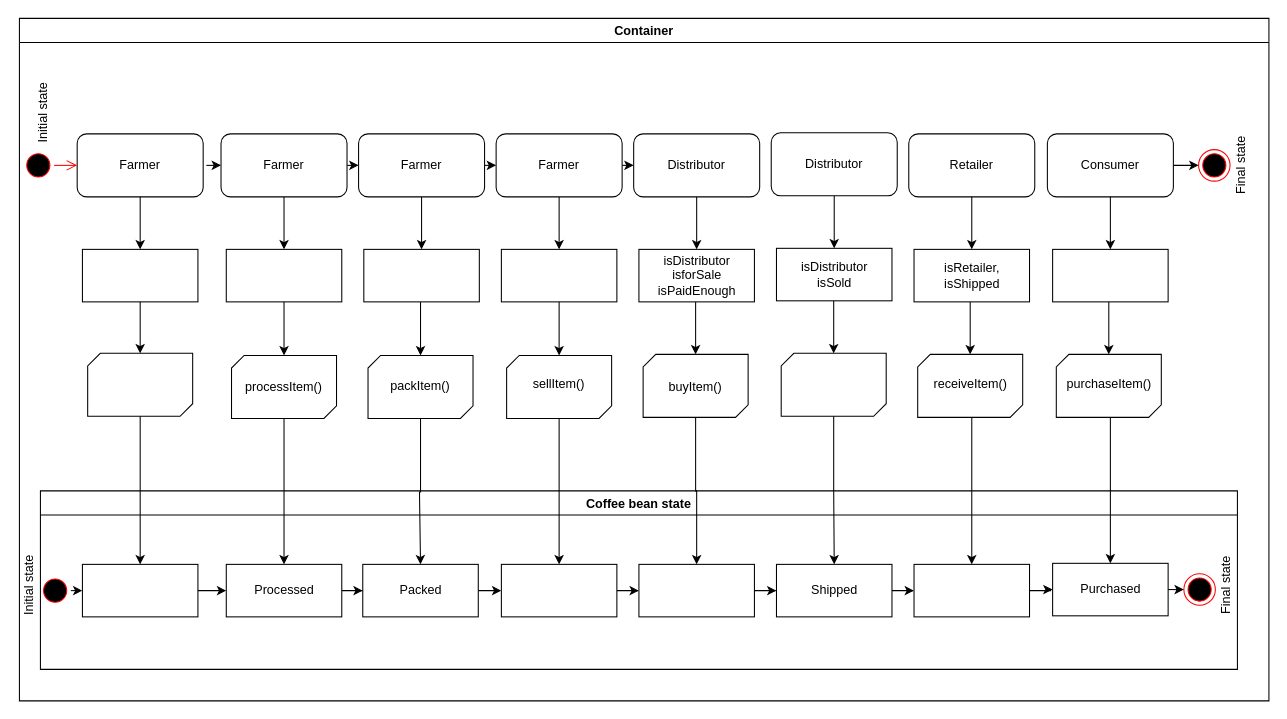
Image size: 1287x719. Some labels were removed from this diagram. The centre of each missing label's shape, as x and y in pixels:
"ForSale" belongs at [558,590].
"Harvested" belongs at [139,590].
"harvestItem()" belongs at [140,384].
"isConsumer isReceived" belongs at [1110,275].
"isFarmer" belongs at [139,275].
"isFarmer ,isProcessed" belongs at [421,275].
"isFarmer, isHarvested" belongs at [283,275].
"isFarmer, isPacked" belongs at [558,275].
"Received" belongs at [971,590].
"shipItem()" belongs at [833,384].
"Sold" belongs at [696,590].
